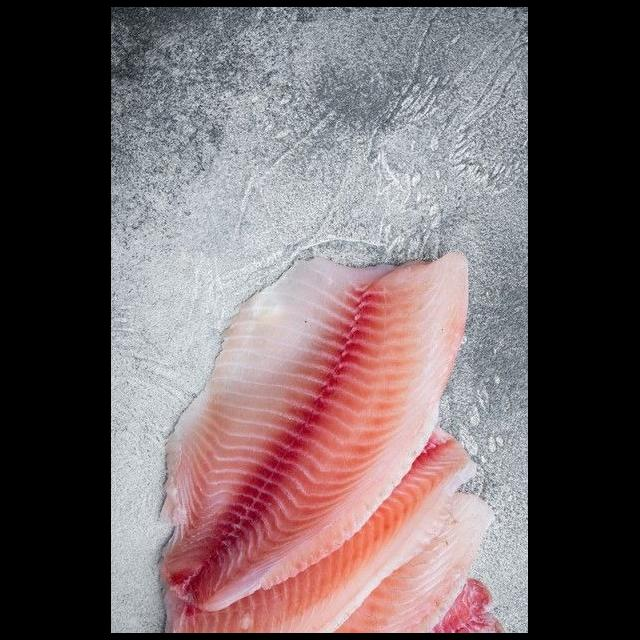fish: (149, 235, 480, 623)
